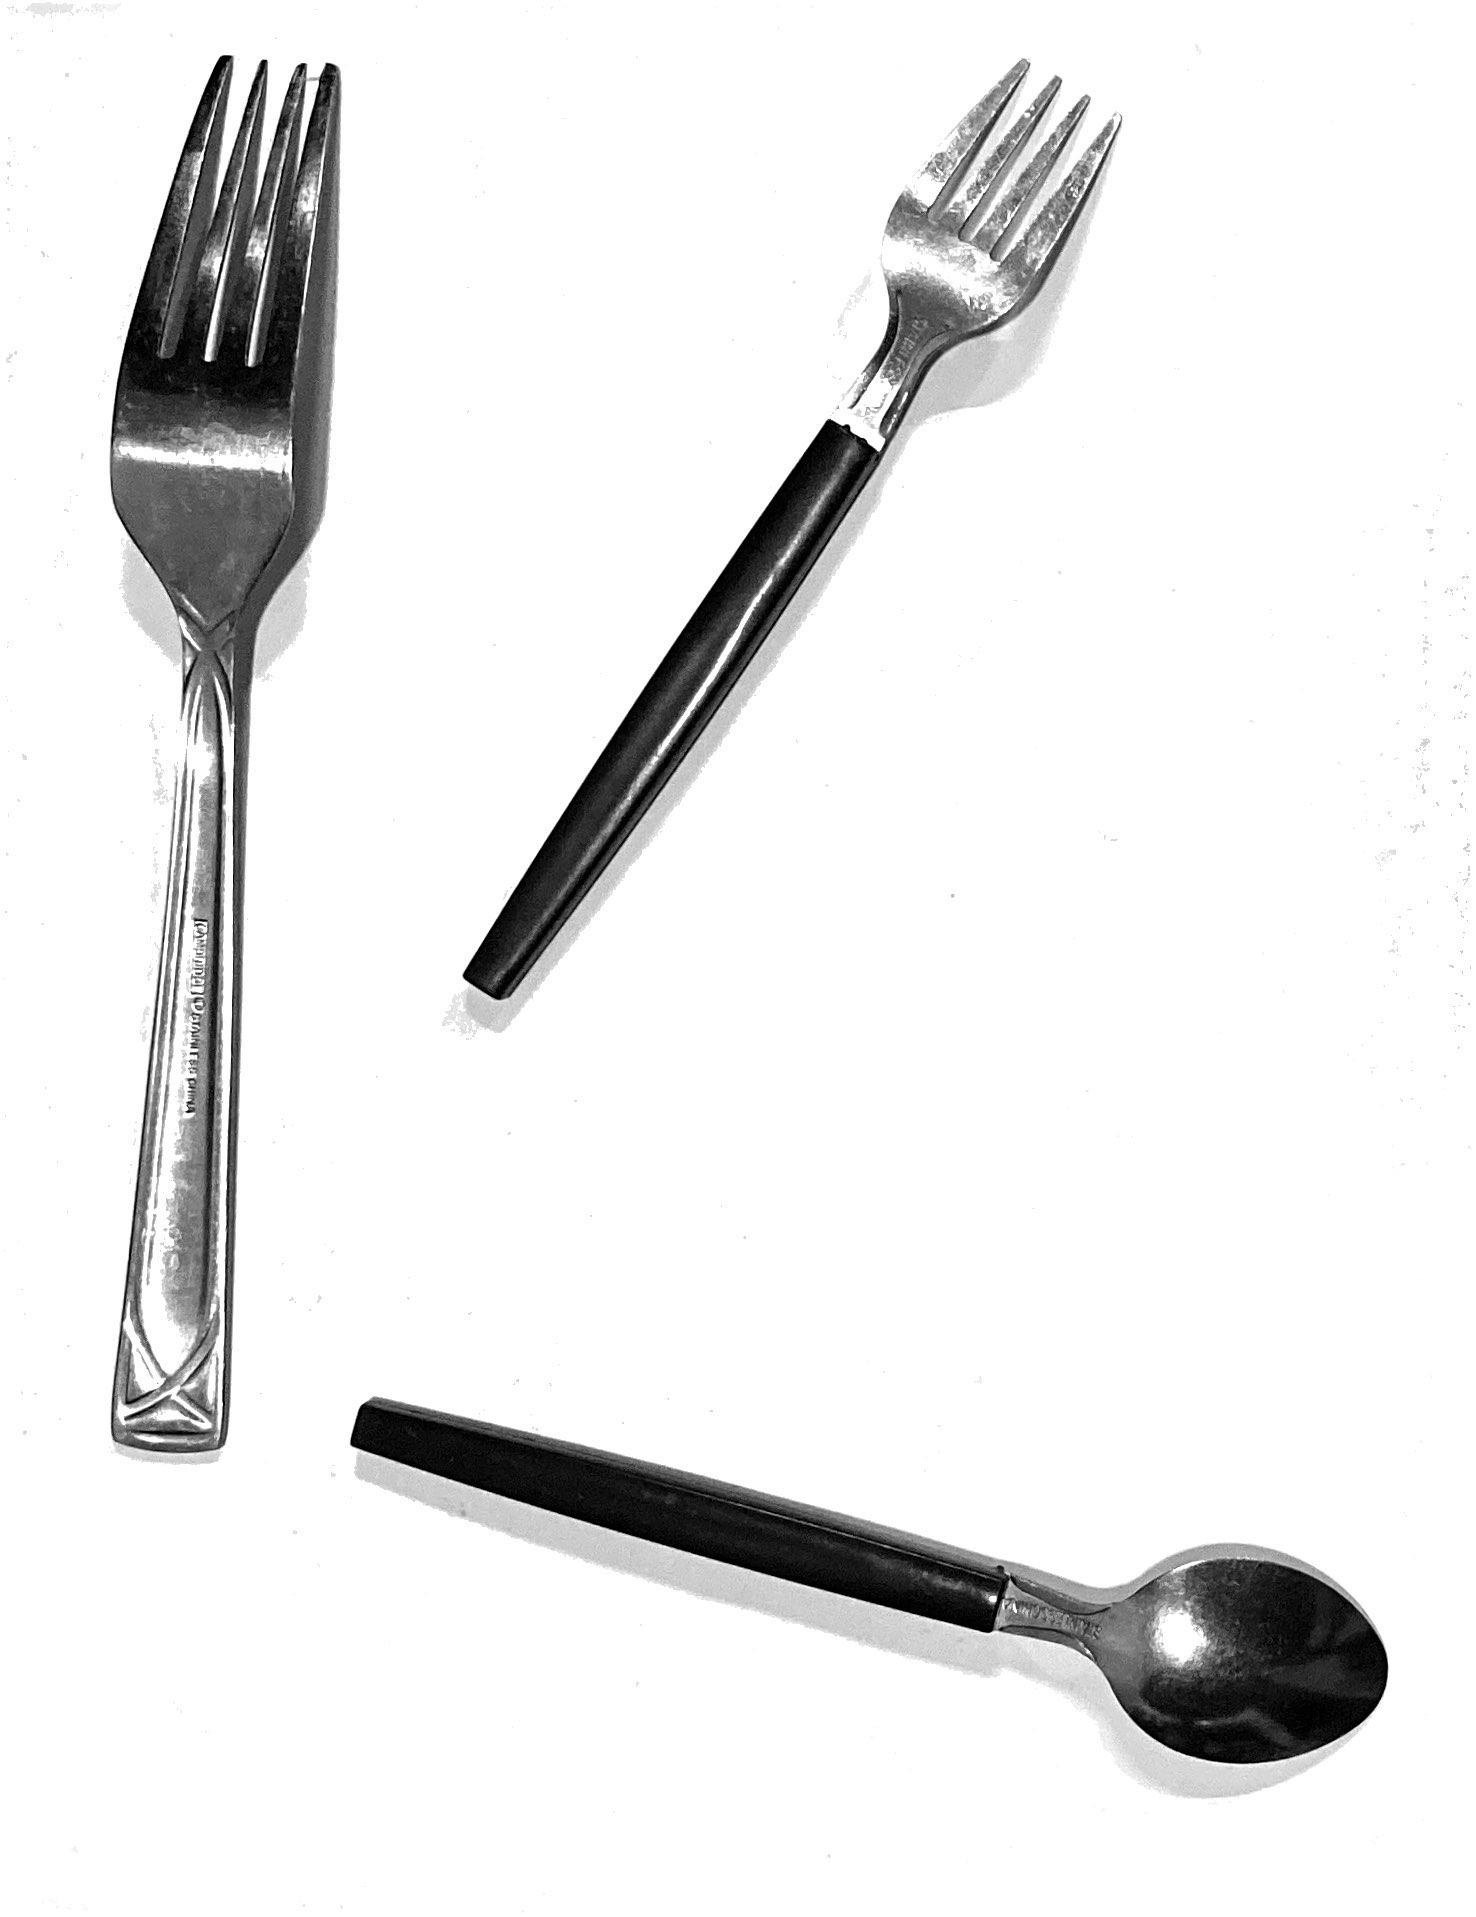Fork: (437, 11, 1304, 1065), (9, 6, 361, 1485)
Spoon: (340, 1234, 1439, 1847)
